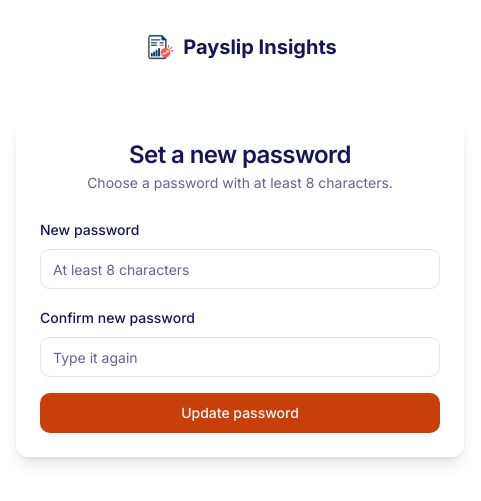
Test: ResetPassword › does not leave a recovery session loading when the provider request rejects
Expected: the heading "Set a new password" is shown, [129,140,351,169]
Type "password123" into the password field labelled "New password". click: coordinates (240, 269)
box: [40,249,440,289]
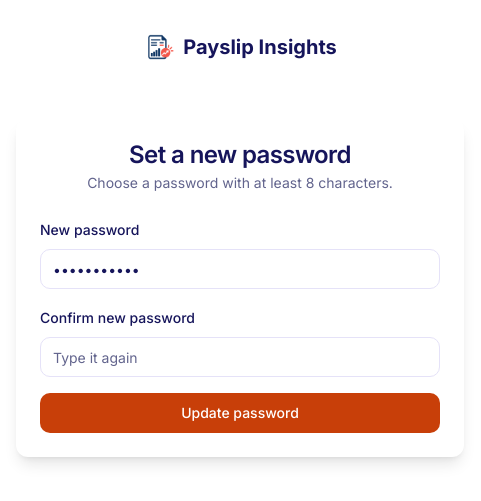
Type "password123" into the password field labelled "Confirm new password". click: coordinates (240, 357)
box: [40,337,440,377]
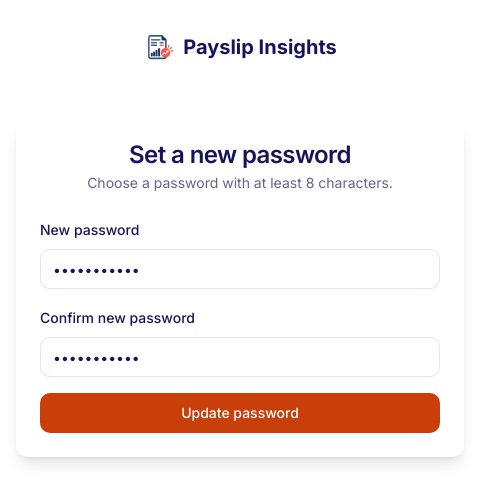
Click the button "Update password". click: coordinates (240, 413)
box: [40,393,440,433]
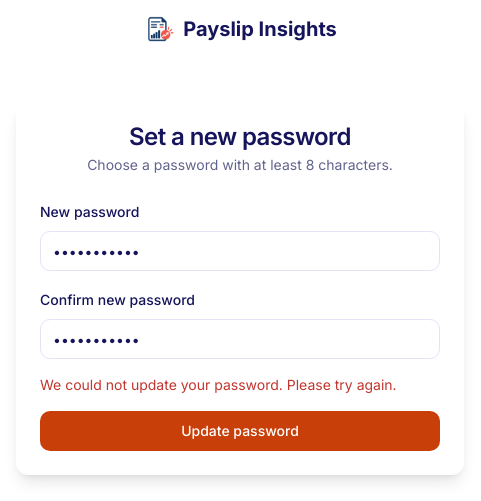
Expected: the button "Update password" is enabled, [40,411,440,451]
Expected: the message reads "We could not update your password. Please try again.", [40,376,397,393]
